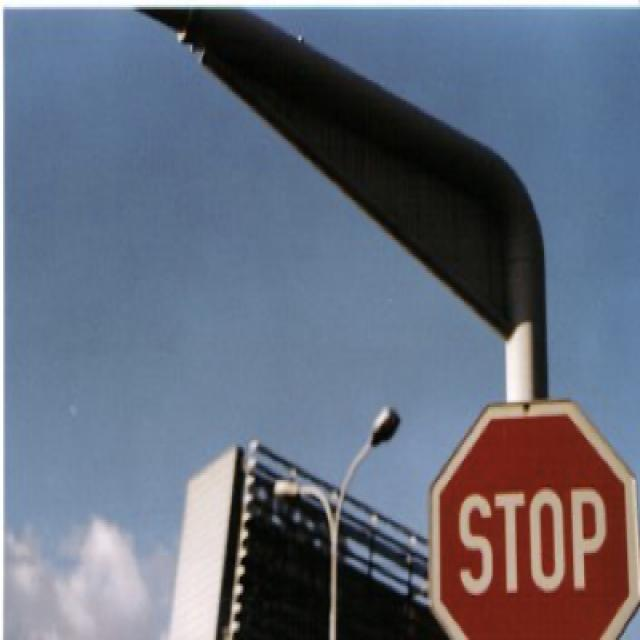stop: (425, 397, 640, 640)
